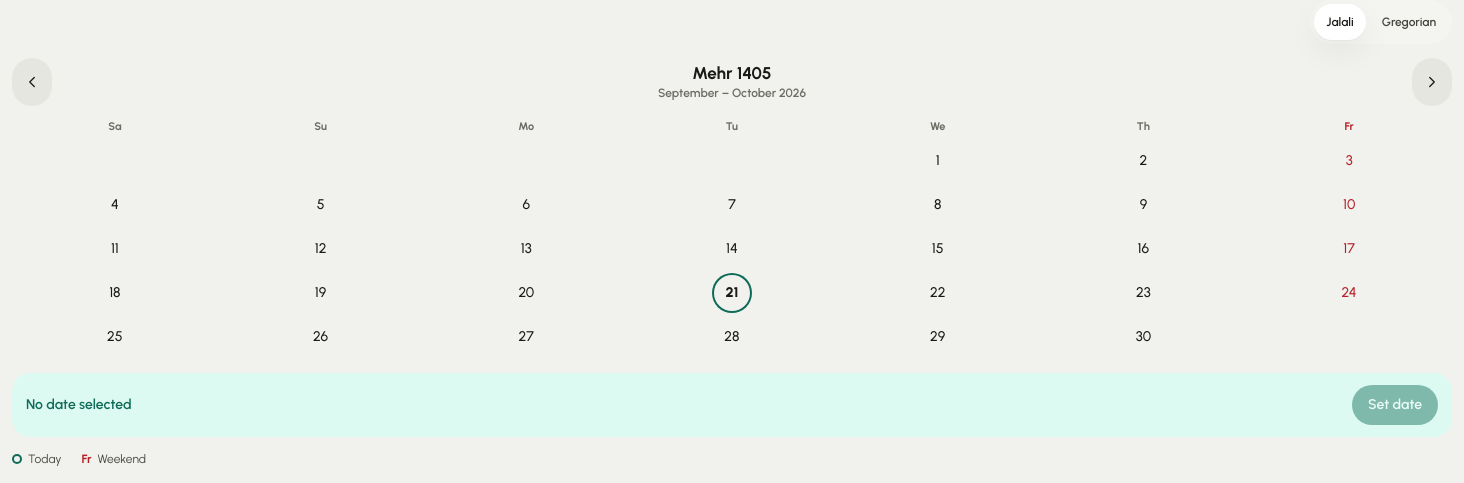
Test case: DatePicker › defaults to the preferred calendar and shows the pick in both calendars
Expected: the text "No date selected" is shown, [26,395,132,415]
Expected: the button "Set date" is disabled, [1352,385,1438,425]
Click the button named "Tue, 21 Mehr 1405": (732, 293) [712,273,752,313]
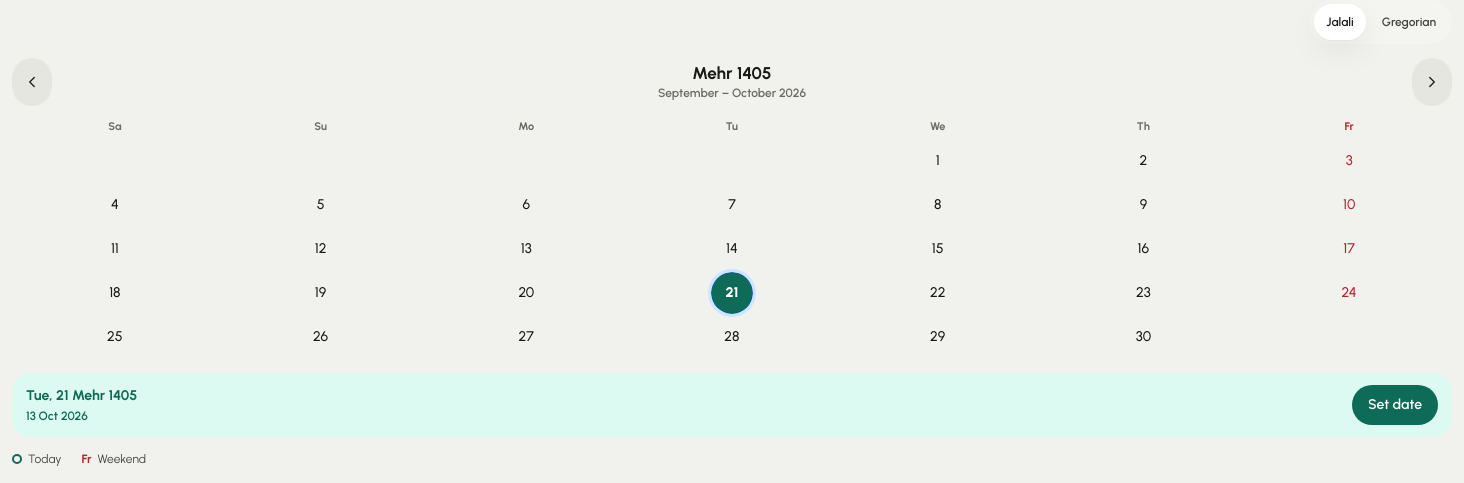
Result: the text "Tue, 21 Mehr 1405" is shown at [26,386,137,406]
Result: the text "13 Oct 2026" is shown at [26,409,88,423]
